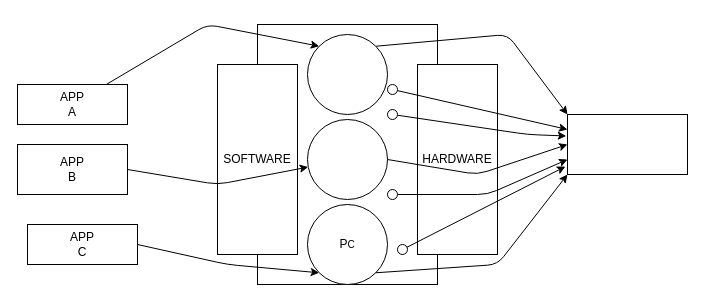
Some shapes in this 705 by 302 pixel diagram are drawn without their labels. Here are the shapes that lost their labels. From the top down, the box of each, then its label:
(306, 34, 388, 114): P A
(306, 118, 388, 200): P B
(566, 114, 688, 174): CPU
